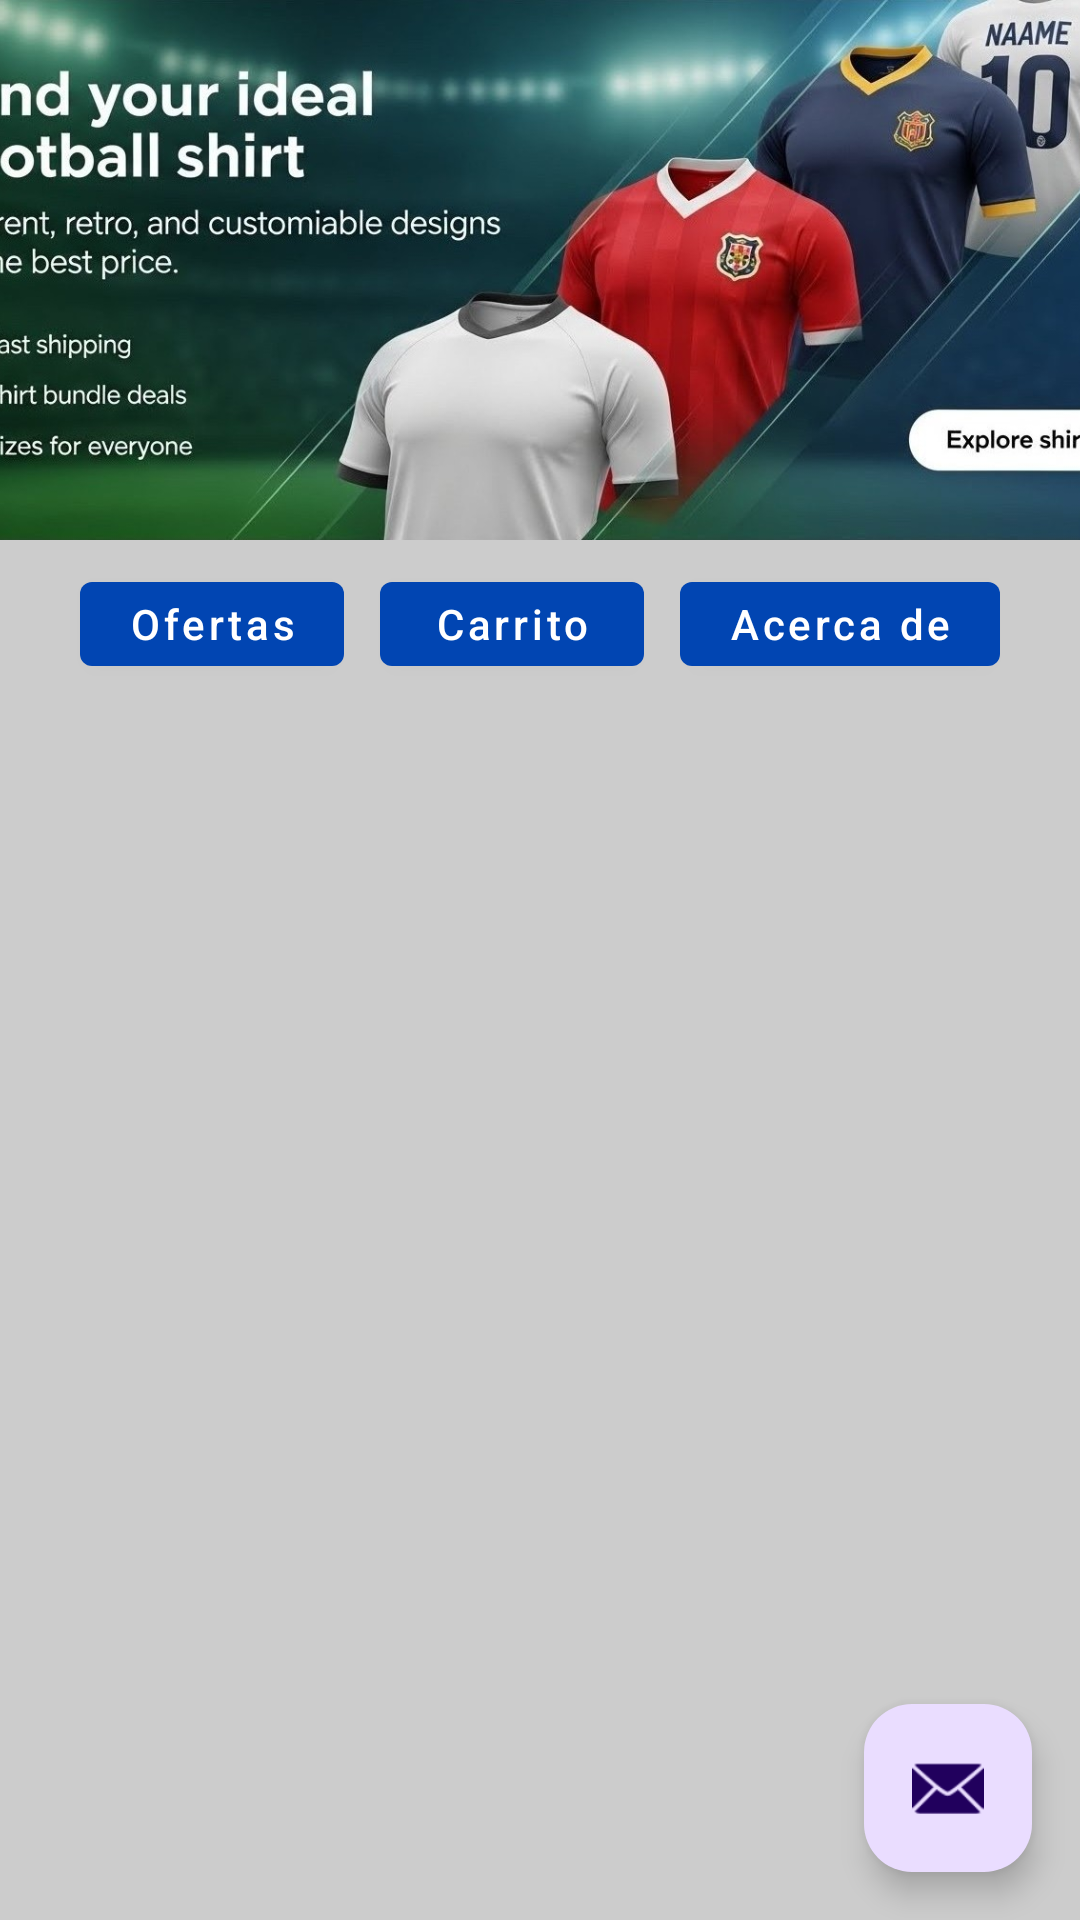

Screen size 1080×1920. Icon name, then its center in pixels as (x,y):
Lanzar notificación de oferta: (948,1788)
